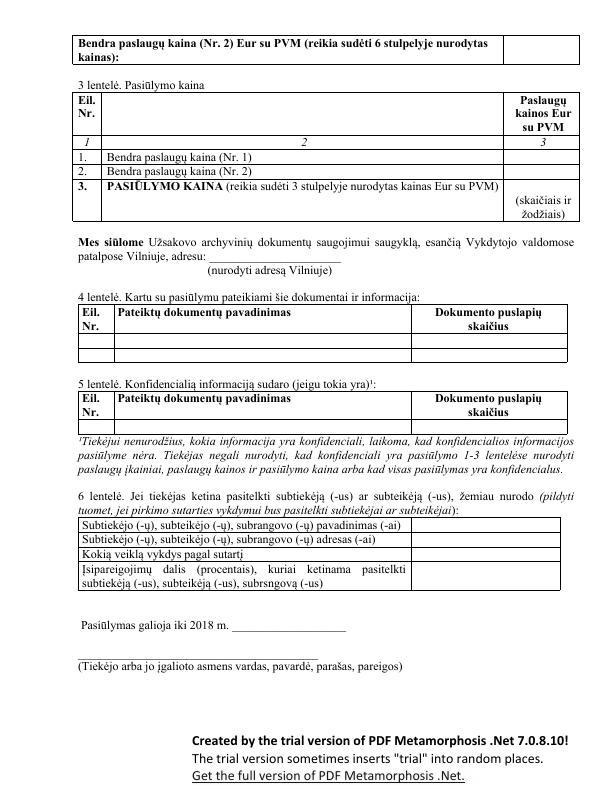input: (75, 641, 405, 677), (208, 254, 344, 280), (231, 620, 348, 635)
table: (72, 90, 581, 225), (74, 516, 564, 594), (75, 302, 570, 365), (75, 388, 569, 435), (69, 32, 583, 66)
text: (186, 729, 577, 784), (73, 437, 576, 479), (75, 488, 578, 514), (77, 235, 575, 250), (73, 288, 419, 302), (75, 376, 375, 389), (80, 618, 230, 636), (72, 76, 204, 89), (74, 252, 205, 263)
